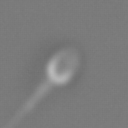normal: (2, 80, 54, 128)
